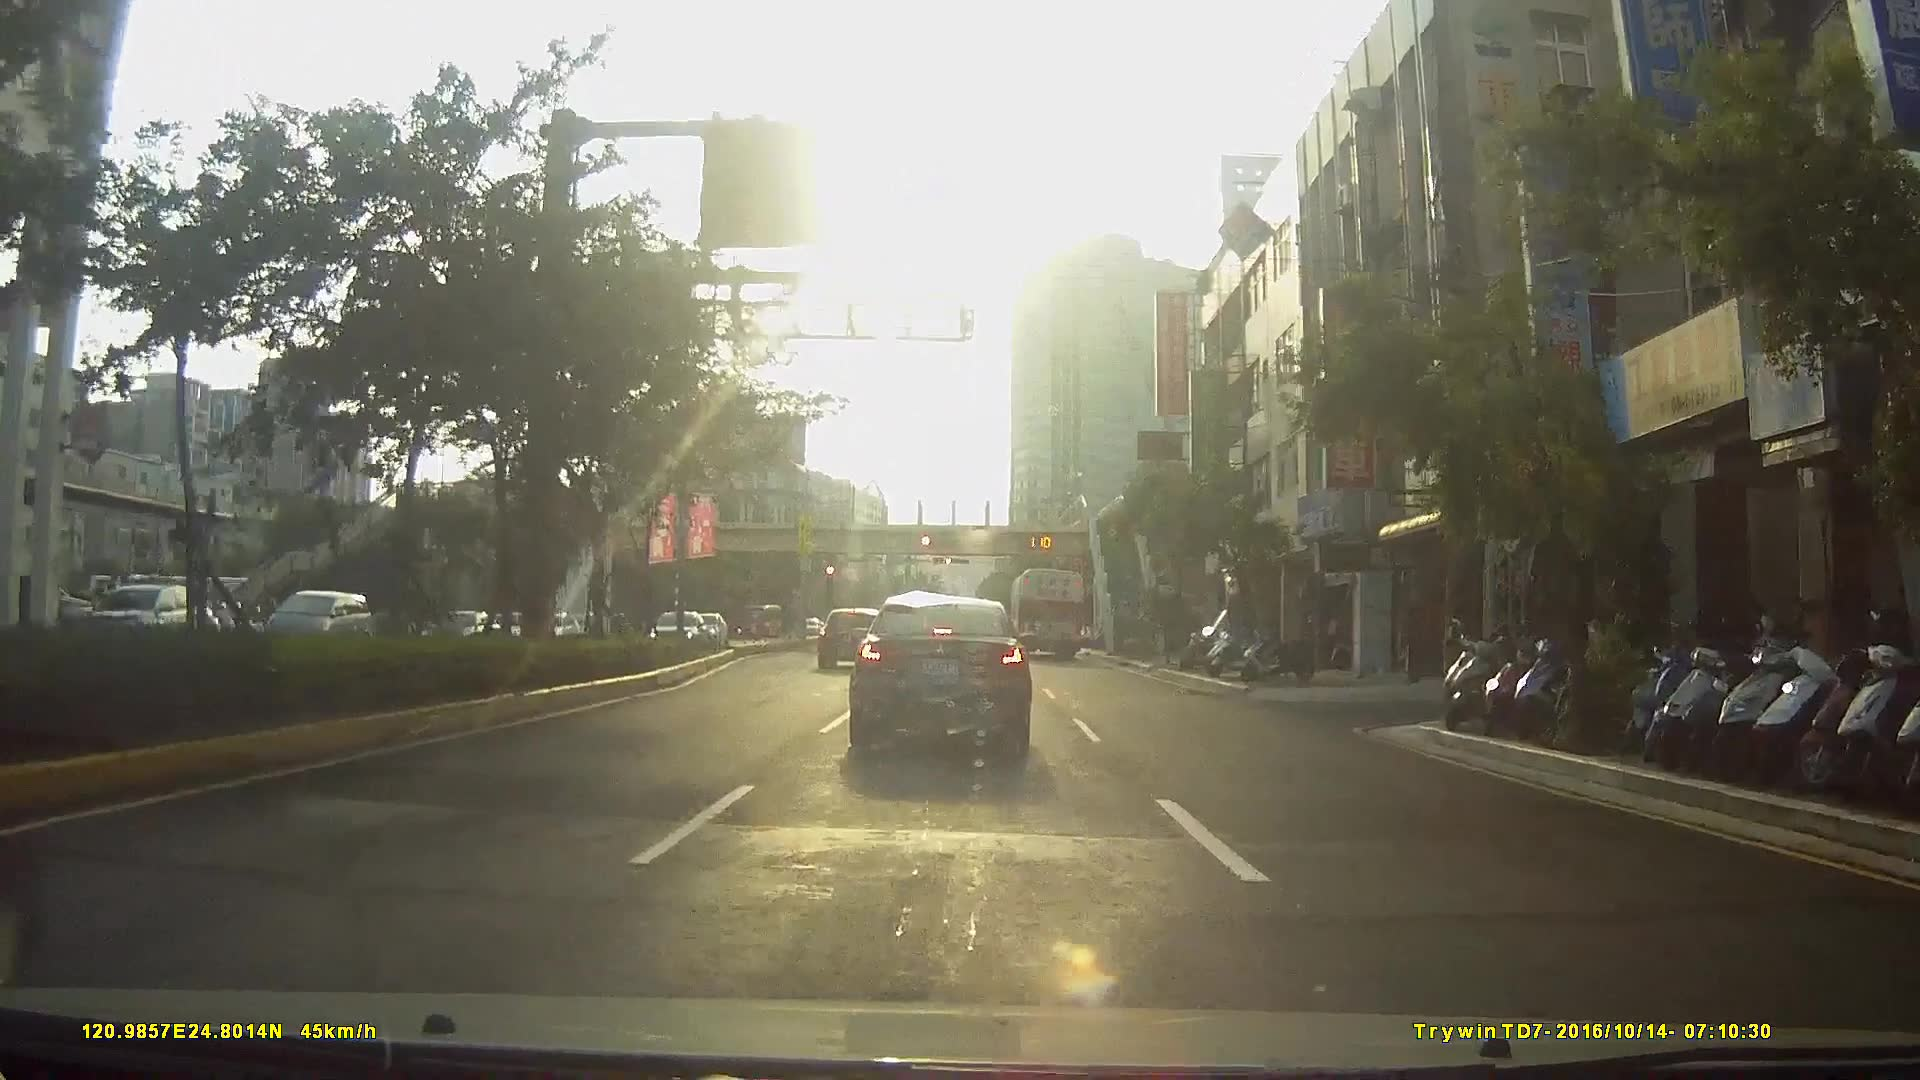vehicle: (847, 593, 1033, 757), (28, 525, 142, 683), (1006, 564, 1087, 661), (257, 589, 371, 653), (816, 605, 885, 674), (646, 611, 705, 654)
